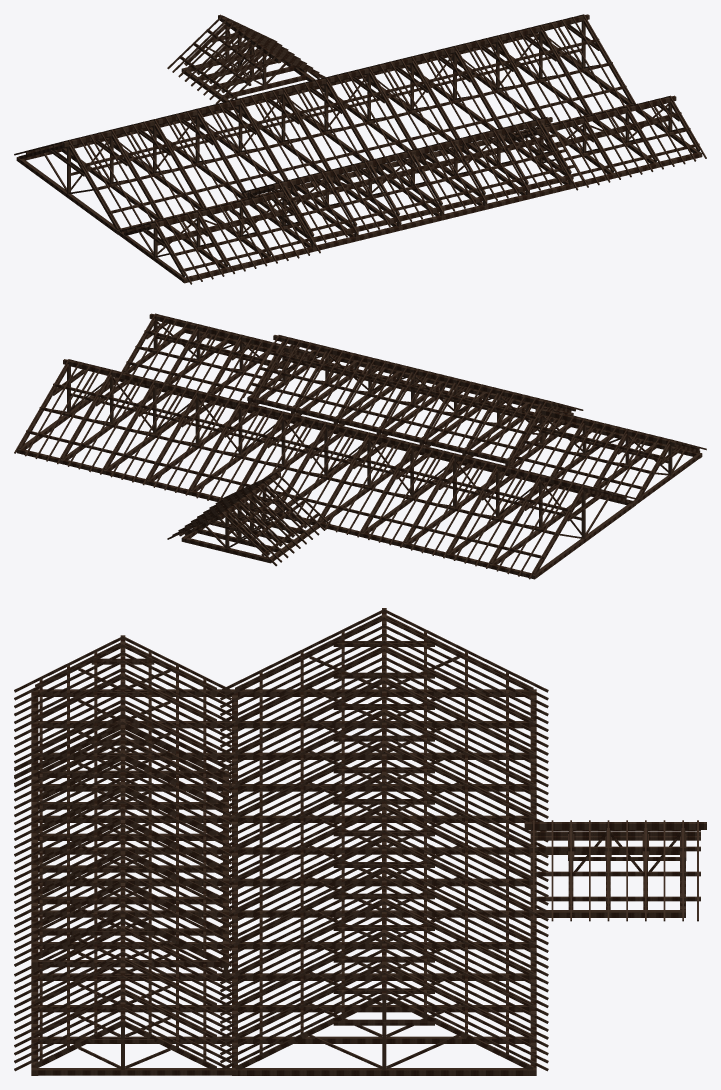
File: rangka.glb
The picture shows the model from 3 angles, top to bottom: view 1: azimuth 30°, elevation 25°; view 2: azimuth 150°, elevation 25°; view 3: azimuth 270°, elevation 25°; orthographic projection. The views are drawn at different scales.
Parts seen in each view (by area): view 1: rangka_kasau, rangka_kuda_kuda, rangka_usei_kasau, rangka_usei_gording, rangka_usei_kuda_kuda, rangka_gording, rangka_usei_balok_tarik, rangka_balok_tarik, rangka_usei_balok_keliling, rangka_balok_keliling, rangka_atang_kasau, rangka_atang_kuda_kuda (+3 smaller); view 2: rangka_kasau, rangka_kuda_kuda, rangka_usei_kasau, rangka_usei_gording, rangka_usei_kuda_kuda, rangka_gording, rangka_usei_balok_tarik, rangka_balok_tarik, rangka_balok_keliling, rangka_usei_balok_keliling, rangka_atang_kasau, rangka_atang_kuda_kuda (+3 smaller); view 3: rangka_kasau, rangka_usei_kasau, rangka_kuda_kuda, rangka_usei_kuda_kuda, rangka_balok_tarik, rangka_usei_balok_tarik, rangka_usei_gording, rangka_gording, rangka_balok_keliling, rangka_atang_gording, rangka_usei_balok_keliling, rangka_atang_kasau (+2 smaller).
Boxes of the visible parts, x1,y1,x2,y2 form: rangka_kasau: [14, 14, 635, 233]; rangka_kuda_kuda: [18, 19, 633, 229]; rangka_usei_kasau: [119, 95, 706, 284]; rangka_usei_gording: [126, 95, 699, 272]; rangka_usei_kuda_kuda: [123, 100, 699, 277]; rangka_gording: [26, 14, 626, 214]; rangka_usei_balok_tarik: [118, 110, 701, 282]; rangka_balok_tarik: [22, 33, 626, 219]; rangka_usei_balok_keliling: [182, 133, 702, 283]; rangka_balok_keliling: [16, 33, 634, 234]; rangka_atang_kasau: [167, 15, 325, 103]; rangka_atang_kuda_kuda: [184, 23, 306, 93]; rangka_kasau: [14, 359, 638, 579]; rangka_kuda_kuda: [19, 364, 633, 574]; rangka_usei_kasau: [121, 313, 706, 501]; rangka_usei_gording: [126, 313, 699, 490]; rangka_usei_kuda_kuda: [124, 318, 700, 497]; rangka_gording: [26, 359, 626, 559]; rangka_usei_balok_tarik: [123, 328, 699, 504]; rangka_balok_tarik: [17, 378, 634, 579]; rangka_balok_keliling: [16, 378, 635, 579]; rangka_usei_balok_keliling: [182, 327, 702, 464]; rangka_atang_kasau: [167, 472, 331, 566]; rangka_atang_kuda_kuda: [184, 486, 307, 555]; rangka_kasau: [220, 609, 548, 1071]; rangka_usei_kasau: [14, 636, 231, 1071]; rangka_kuda_kuda: [235, 615, 533, 1069]; rangka_usei_kuda_kuda: [32, 642, 228, 1069]; rangka_balok_tarik: [232, 689, 536, 1070]; rangka_usei_balok_tarik: [31, 689, 231, 1075]; rangka_usei_gording: [39, 635, 206, 1062]; rangka_gording: [259, 608, 508, 1055]; rangka_balok_keliling: [232, 689, 536, 1075]; rangka_atang_gording: [524, 822, 706, 901]; rangka_usei_balok_keliling: [31, 689, 228, 1075]; rangka_atang_kasau: [533, 820, 698, 921].
Bounding box in the file's own units: 30.6 × 3.2 × 23.2.
1 material, 1 textured.
